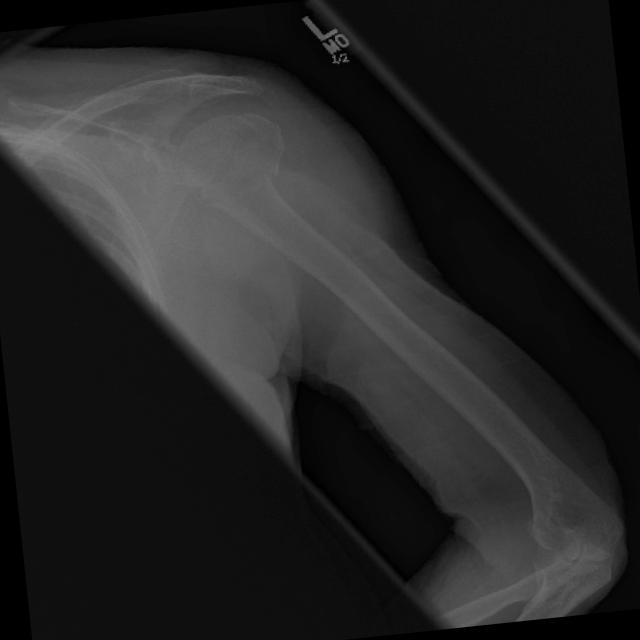humerus fracture: (206, 107, 326, 200)
